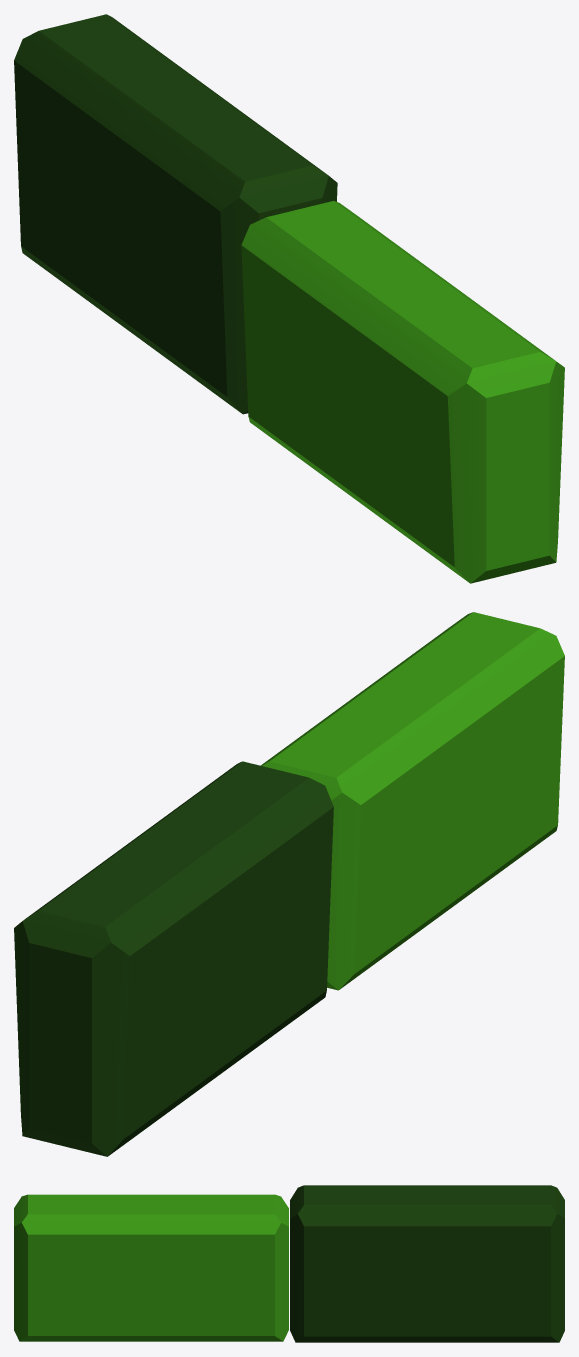
File: Hedges.fbx
3 renders of one model, top to bottom at view 1: azimuth 30°, elevation 25°; view 2: azimuth 150°, elevation 25°; view 3: azimuth 270°, elevation 25°, orthographic. The views are drawn at different scales.
Parts seen in each view (by area): view 1: BushLong005, BushLong006; view 2: BushLong006, BushLong005; view 3: BushLong006, BushLong005.
Part boxes in pixels (x1,y1,x2,y2): BushLong005: (241, 201, 564, 583); BushLong006: (14, 14, 337, 414); BushLong006: (14, 761, 333, 1156); BushLong005: (261, 612, 564, 990); BushLong006: (290, 1185, 564, 1342); BushLong005: (14, 1194, 288, 1341).
Size of the model in its own units: 33.79 by 60.4 by 224.
